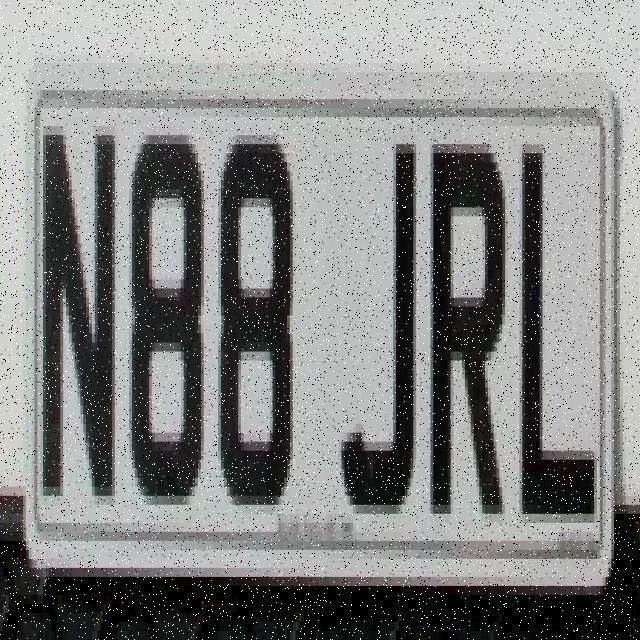LicensePlate: (13, 9, 618, 597)
